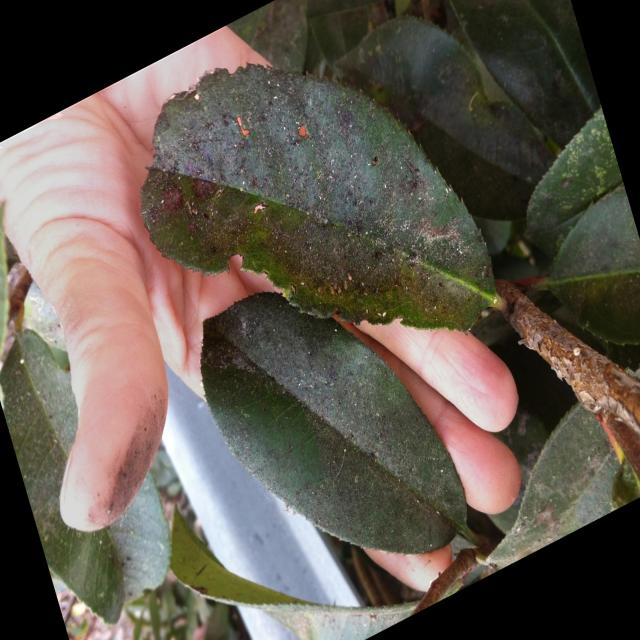Sooty Mold: (139, 60, 492, 502)
